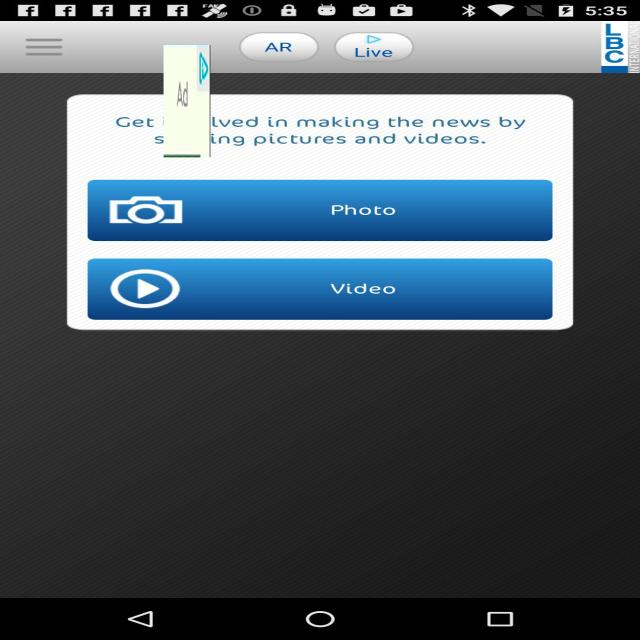sneaking: (163, 45, 210, 157)
